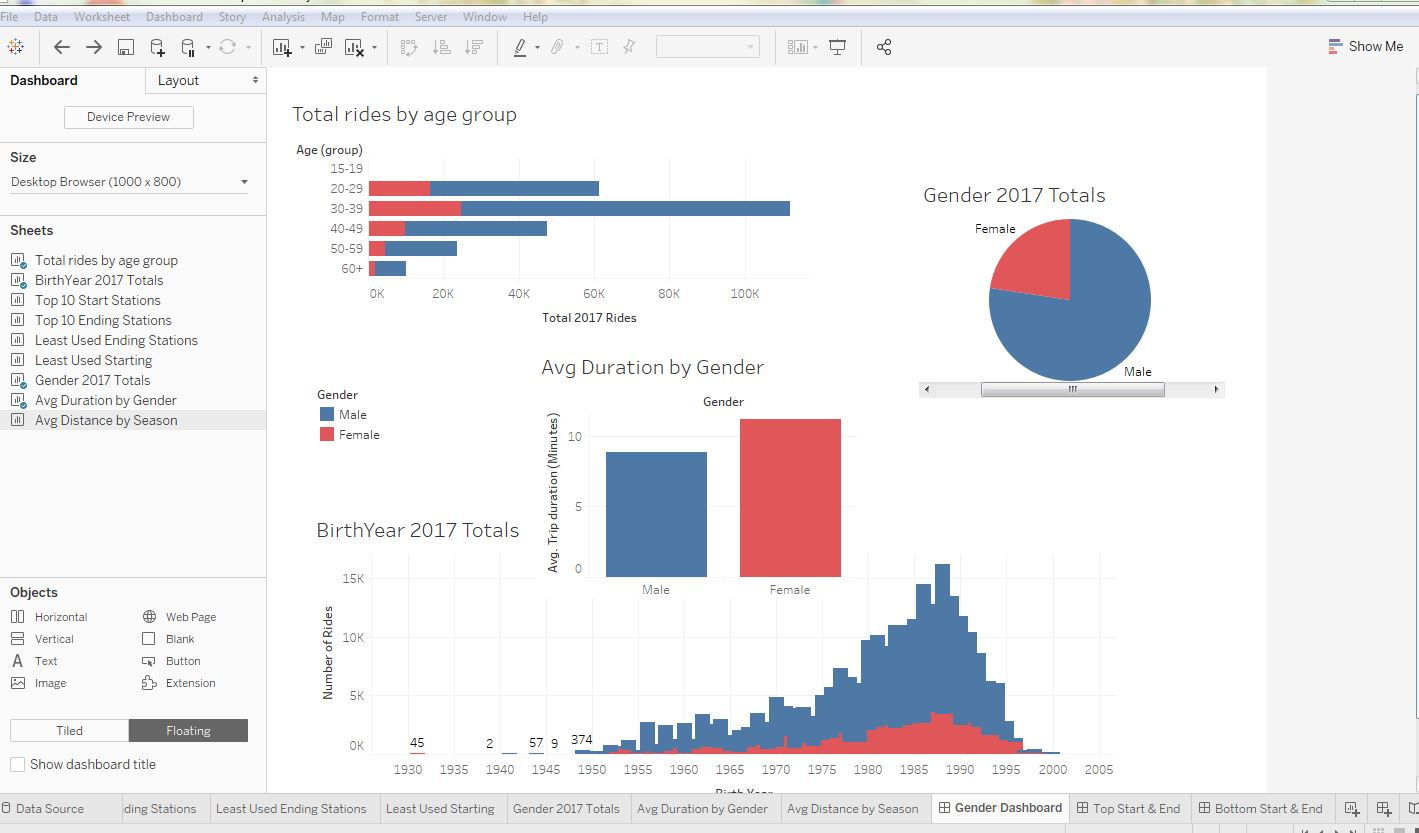

The dashboard page shown, as its layout file describes it:
{"tool":"tableau","page":{"name":"Gender Dashboard","canvas":[1000,800],"ordinal":1},"visuals":[{"type":"worksheet","title":"Total rides by age group","mark":"Automatic","cols":["Number of Records"],"box":[21,38,523,306]},{"type":"worksheet","title":"Gender 2017 Totals","mark":"Pie","box":[652,119,306,228]},{"type":"worksheet","title":"Avg Duration by Gender","mark":"Automatic","rows":["Calculation_131730309613129728"],"cols":["gender"],"box":[270,291,320,250]},{"type":"legend","title":"Total rides by age group","param":"[federated.0e7hpmo1rsmxcw1aq7kue1a3j1ir].[none:gender:ok]","box":[50,329,106,73]},{"type":"worksheet","title":"BirthYear 2017 Totals","mark":"Bar","rows":["Number of Records"],"cols":["birth year"],"box":[45,454,805,298]}]}

Visuals, with their boxes on the page's 1000x800 design canvas (x1, y1, x2, y2). These are canvas units, not pixel positions in the 1419x833 screenshot, which may show the page scaled, cropped or inside an application window:
"Total rides by age group" worksheet: [21,38,544,344]
"Gender 2017 Totals" worksheet (Pie marks): [652,119,958,347]
"Avg Duration by Gender" worksheet: [270,291,590,541]
"Total rides by age group" legend: [50,329,156,402]
"BirthYear 2017 Totals" worksheet (Bar marks): [45,454,850,752]
